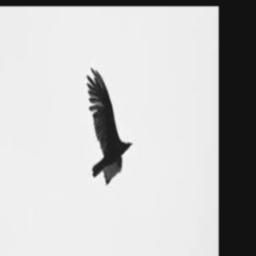Crow: (87, 66, 134, 184)
